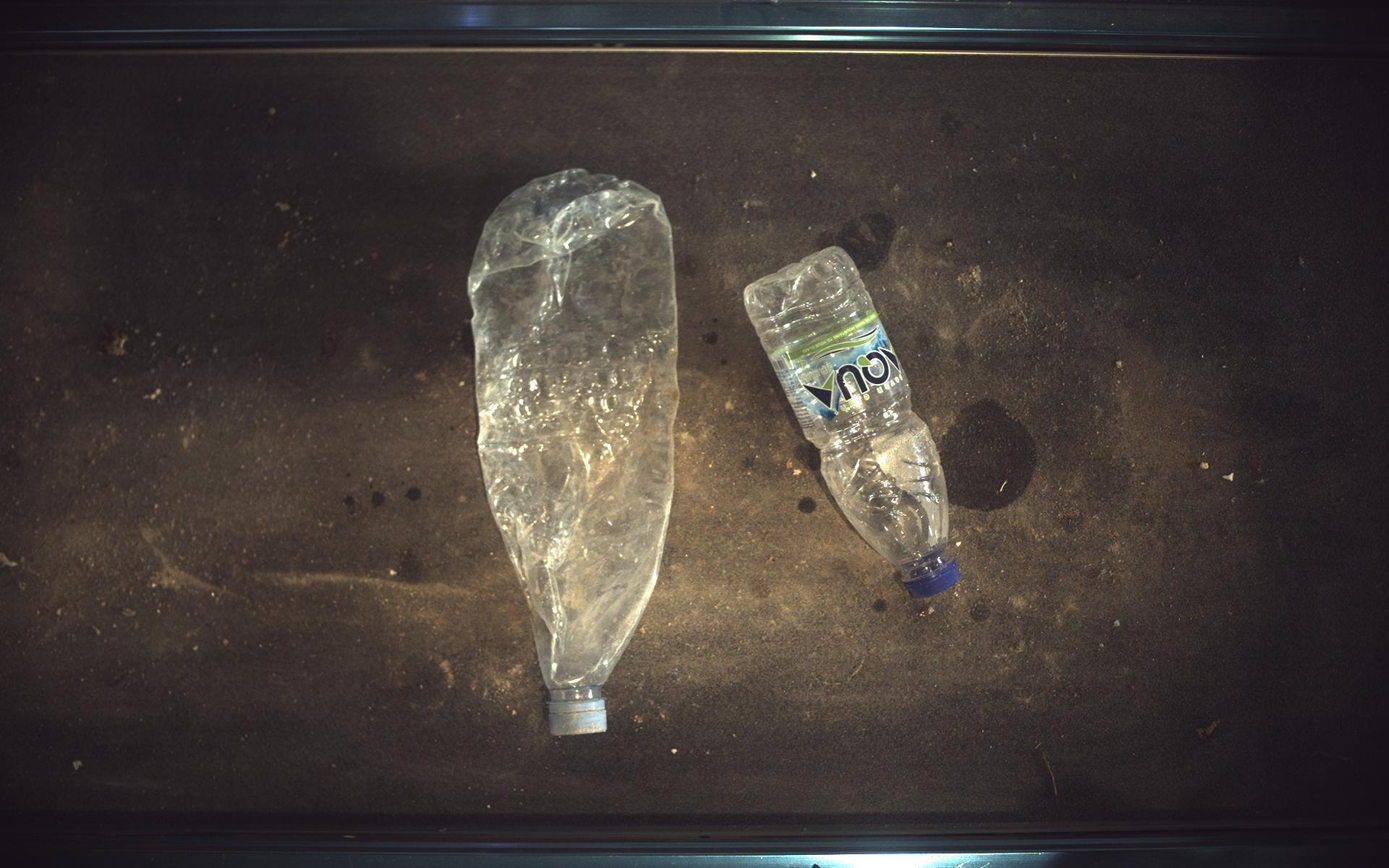general_w: (468, 168, 679, 737), (745, 247, 961, 598)
